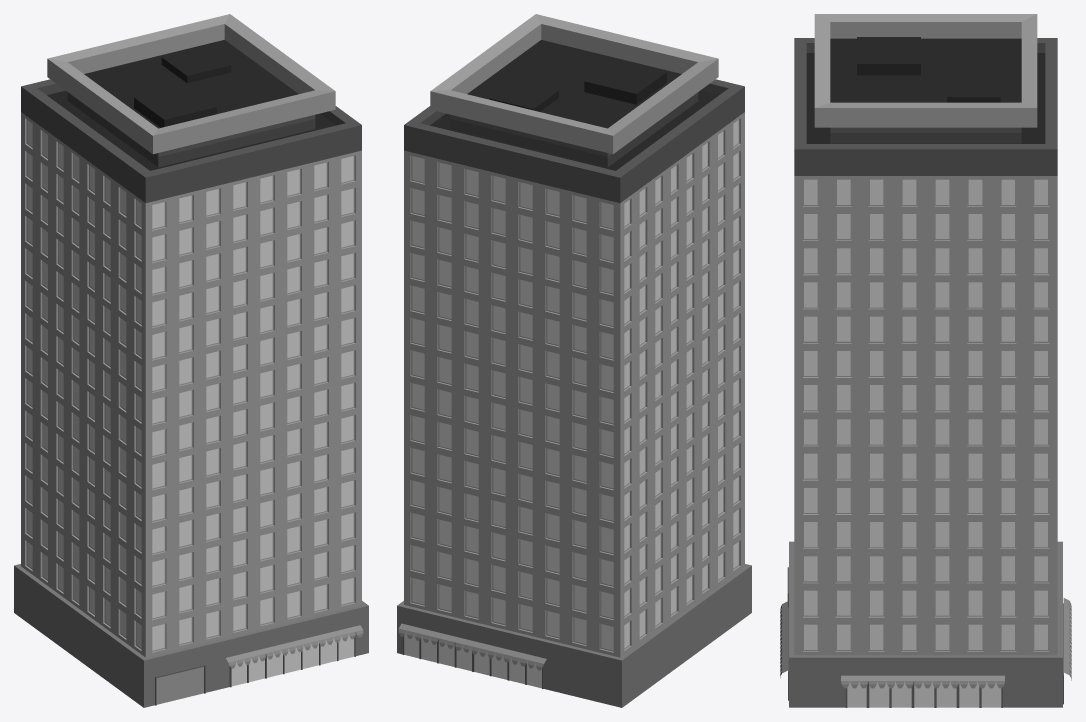
The model's file is Building_2.fbx.
3 views of the same model, side by side, from view 1: azimuth 30°, elevation 25°; view 2: azimuth 150°, elevation 25°; view 3: azimuth 270°, elevation 25° (orthographic). The views are drawn at different scales.
Parts seen in each view (by area): view 1: Ufficio.001, Cube.014, Base.013, Tende.007; view 2: Ufficio.001, Cube.014, Base.013, Tende.009; view 3: Ufficio.001, Cube.014, Base.013, Tende.008, Tende.009, Tende.007.
Part boxes in pixels (<box>): Ufficio.001: <box>21,112,361,657</box>; Cube.014: <box>21,14,361,202</box>; Base.013: <box>14,564,368,707</box>; Tende.007: <box>226,625,363,668</box>; Ufficio.001: <box>404,112,744,657</box>; Cube.014: <box>404,14,744,202</box>; Base.013: <box>397,564,751,707</box>; Tende.009: <box>398,623,546,670</box>; Ufficio.001: <box>794,176,1057,655</box>; Cube.014: <box>794,14,1057,175</box>; Base.013: <box>787,541,1063,707</box>; Tende.008: <box>841,675,1004,688</box>; Tende.009: <box>1063,598,1071,680</box>; Tende.007: <box>780,601,787,677</box>.
Bounding box in the file's own units: 1758 × 4036 × 1813.
